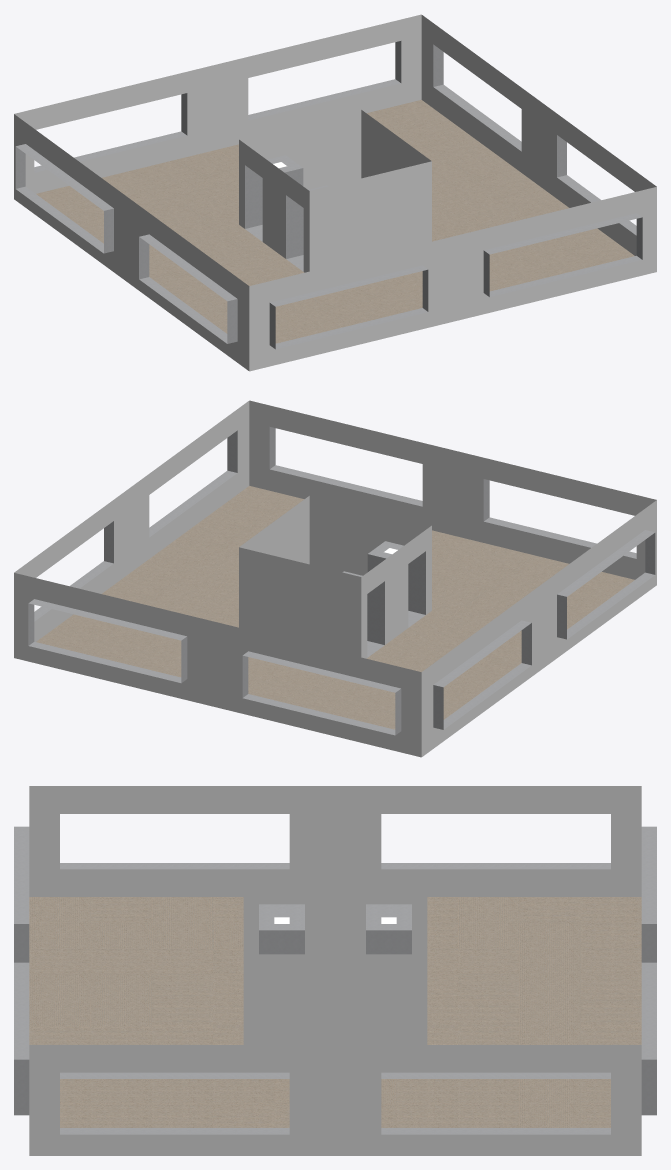
File: floorplan.glb
The picture shows the model from 3 angles, top to bottom: view 1: azimuth 30°, elevation 25°; view 2: azimuth 150°, elevation 25°; view 3: azimuth 270°, elevation 25°; orthographic projection. The views are drawn at different scales.
Visible parts, largest first — view 1: floorplan-col; view 2: floorplan-col; view 3: floorplan-col.
Part boxes in pixels (x1,y1,x2,y2): floorplan-col: (14,14,656,371); floorplan-col: (14,400,656,757); floorplan-col: (14,786,656,1155).
Bounding box in the file's own units: 21 × 4 × 21.
4 materials, 3 textured.
